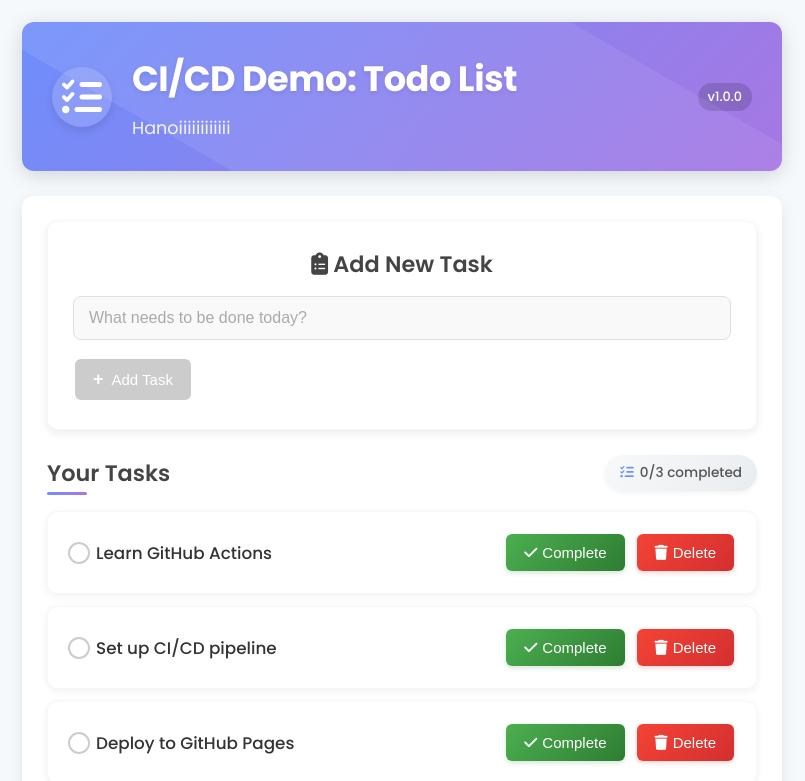
Test: can add a new todo
The width and height of the screenshot is (805, 781).
Type "Test new todo" into the field with test id "todo-input".
click(402, 318); type("Test new todo")  # box [73,296,731,340]
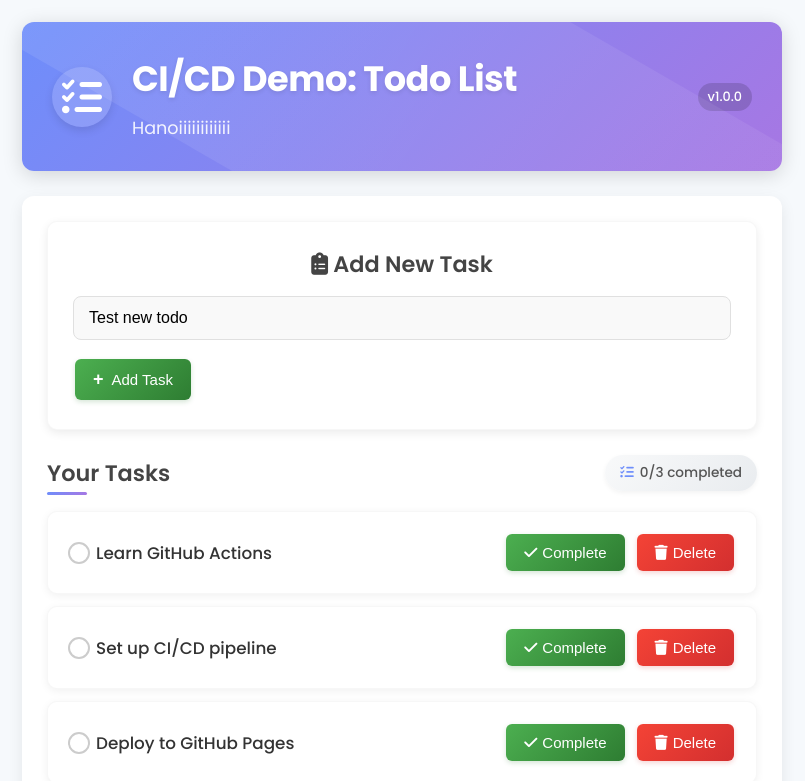
Click the button with test id "add-button".
click(133, 380)  # box [75,359,191,400]
(page scrolled)
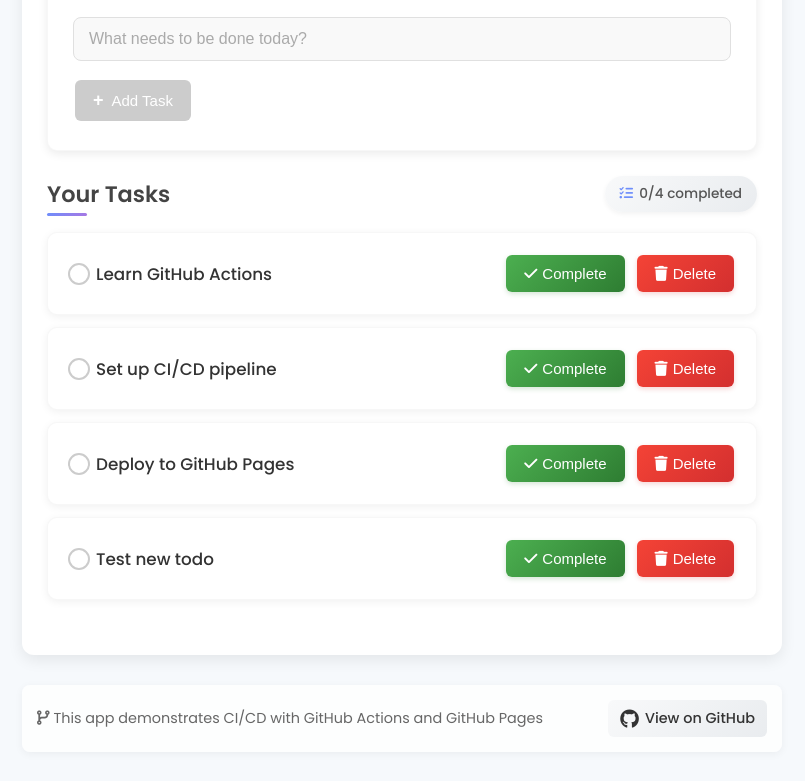
Expected: the field with test id "todo-input" is enabled, [73,17,731,61]
Expected: the text "Test new todo" is shown, [96,546,214,570]
